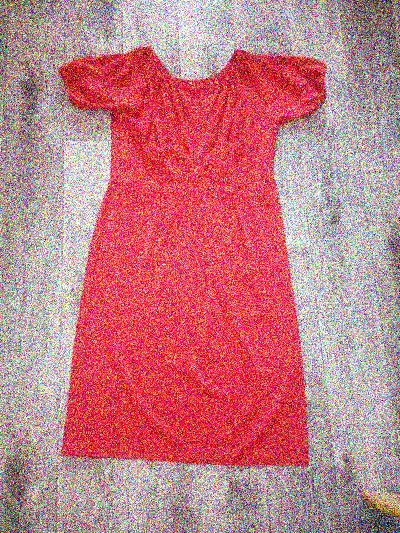Dress: (30, 25, 346, 475)
